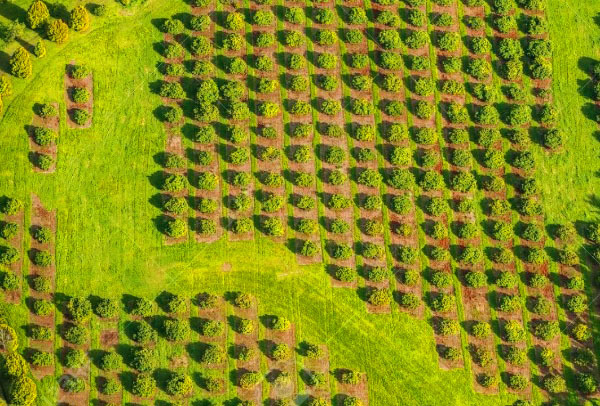TREE: (8, 47, 33, 79), (67, 297, 92, 324), (162, 318, 191, 340), (11, 380, 37, 404), (166, 373, 192, 396), (452, 169, 476, 193), (131, 348, 157, 370), (28, 1, 50, 27), (506, 105, 532, 127), (162, 173, 192, 192), (1, 19, 25, 42), (195, 79, 218, 103), (426, 197, 452, 218), (497, 38, 523, 59), (526, 39, 553, 59), (5, 355, 28, 378), (220, 81, 245, 102), (1, 324, 19, 353), (389, 171, 415, 191), (420, 170, 446, 190), (69, 5, 88, 32), (133, 374, 155, 397), (535, 320, 560, 340), (432, 293, 458, 312), (526, 60, 553, 78), (522, 14, 546, 34), (468, 59, 492, 79), (201, 343, 226, 362), (479, 150, 504, 169), (161, 81, 187, 99), (164, 196, 190, 214), (97, 299, 120, 319), (100, 352, 123, 372), (521, 222, 544, 242), (194, 103, 221, 120), (133, 319, 152, 343), (543, 376, 567, 395), (498, 294, 522, 313), (575, 349, 599, 368), (32, 127, 57, 145), (405, 31, 430, 49), (477, 129, 502, 147), (447, 102, 468, 123), (390, 195, 412, 215), (381, 74, 403, 94), (476, 105, 498, 125), (1, 268, 20, 291), (491, 13, 514, 32), (487, 199, 511, 217), (481, 175, 505, 193), (260, 218, 285, 235), (518, 199, 543, 216), (195, 124, 215, 145), (514, 150, 535, 170), (50, 21, 69, 43), (414, 78, 436, 97), (65, 325, 88, 343), (165, 219, 188, 237), (380, 53, 404, 70), (473, 84, 497, 101), (501, 60, 521, 80), (543, 129, 563, 149), (520, 176, 540, 196), (198, 172, 219, 191), (504, 322, 525, 341), (568, 295, 589, 314), (65, 350, 87, 368), (387, 124, 409, 142), (471, 37, 493, 55), (575, 375, 597, 393), (360, 170, 383, 187), (504, 84, 528, 100), (2, 196, 22, 215), (1, 244, 20, 264), (164, 103, 184, 122), (285, 30, 305, 49), (472, 321, 491, 341), (132, 298, 153, 316), (466, 271, 487, 289), (492, 222, 513, 240), (572, 325, 593, 343), (262, 194, 284, 211), (316, 29, 338, 46), (371, 288, 393, 305), (380, 32, 402, 49), (438, 33, 460, 50), (228, 103, 251, 119), (258, 100, 281, 116), (192, 36, 211, 55), (417, 101, 436, 120), (353, 99, 377, 114), (507, 348, 527, 366), (562, 248, 580, 268), (231, 193, 252, 210), (321, 98, 342, 115), (509, 128, 530, 145), (533, 294, 550, 315), (31, 351, 53, 367), (416, 128, 438, 144), (31, 327, 54, 342), (202, 321, 225, 336), (377, 12, 400, 27), (556, 224, 575, 242), (285, 7, 305, 24), (336, 266, 356, 283), (433, 272, 453, 289), (442, 56, 462, 73), (540, 103, 557, 123), (494, 247, 514, 264), (71, 59, 87, 80), (229, 148, 250, 164), (298, 219, 319, 235), (332, 243, 353, 259), (442, 81, 466, 95), (65, 378, 87, 393), (35, 153, 53, 171), (198, 219, 216, 237), (421, 149, 439, 167), (475, 348, 493, 366), (226, 12, 245, 29), (296, 171, 315, 188), (315, 7, 334, 24), (392, 148, 411, 165), (463, 246, 482, 263), (34, 250, 54, 266), (164, 18, 184, 34), (356, 126, 376, 142), (507, 374, 527, 390), (240, 373, 261, 388), (193, 60, 214, 75), (226, 58, 247, 73), (411, 56, 432, 71), (233, 218, 255, 232), (368, 268, 390, 282), (447, 129, 469, 143), (72, 110, 90, 127), (293, 146, 311, 163), (331, 218, 349, 235), (401, 293, 419, 310), (460, 222, 477, 240), (33, 276, 52, 292), (229, 125, 248, 141), (266, 172, 285, 188), (330, 194, 349, 210), (326, 146, 345, 162), (318, 53, 337, 69), (527, 247, 546, 263), (199, 293, 219, 308), (254, 10, 274, 25), (349, 8, 369, 23), (399, 248, 419, 263), (341, 370, 364, 383), (191, 15, 212, 29), (258, 78, 279, 92), (272, 343, 289, 360), (256, 54, 273, 71), (71, 86, 89, 102), (272, 314, 290, 330), (166, 155, 190, 167), (225, 34, 243, 50), (540, 348, 556, 366), (34, 301, 53, 316), (168, 296, 187, 311), (234, 294, 253, 309), (256, 33, 275, 48), (364, 243, 383, 258), (432, 221, 447, 240), (530, 274, 549, 289), (307, 371, 327, 385), (353, 76, 373, 90), (430, 247, 450, 261), (456, 198, 476, 212), (1, 77, 14, 98), (233, 171, 251, 186), (301, 241, 319, 256), (352, 54, 370, 69), (454, 151, 472, 166), (303, 345, 322, 359), (294, 122, 313, 136), (363, 196, 382, 210), (440, 321, 459, 335), (566, 277, 585, 291), (259, 147, 279, 160), (291, 101, 311, 114), (365, 221, 385, 234), (444, 345, 460, 361), (297, 197, 314, 212), (320, 75, 337, 90), (39, 104, 57, 118), (102, 379, 120, 393), (385, 102, 403, 116), (462, 16, 483, 28), (165, 44, 184, 57), (288, 54, 304, 69), (410, 11, 426, 26), (434, 14, 454, 26), (291, 76, 308, 90), (403, 270, 420, 284), (199, 199, 217, 212), (329, 170, 347, 183), (587, 223, 600, 241), (358, 149, 377, 161), (34, 228, 49, 243), (500, 272, 514, 288), (238, 319, 255, 332), (325, 125, 342, 138), (198, 151, 212, 166), (345, 31, 362, 43), (305, 398, 330, 406), (167, 64, 183, 76), (35, 40, 46, 57), (260, 128, 277, 139), (397, 223, 410, 237), (344, 396, 363, 405), (239, 348, 253, 360), (276, 373, 291, 384), (535, 87, 551, 97), (206, 377, 218, 390), (482, 376, 494, 386)
